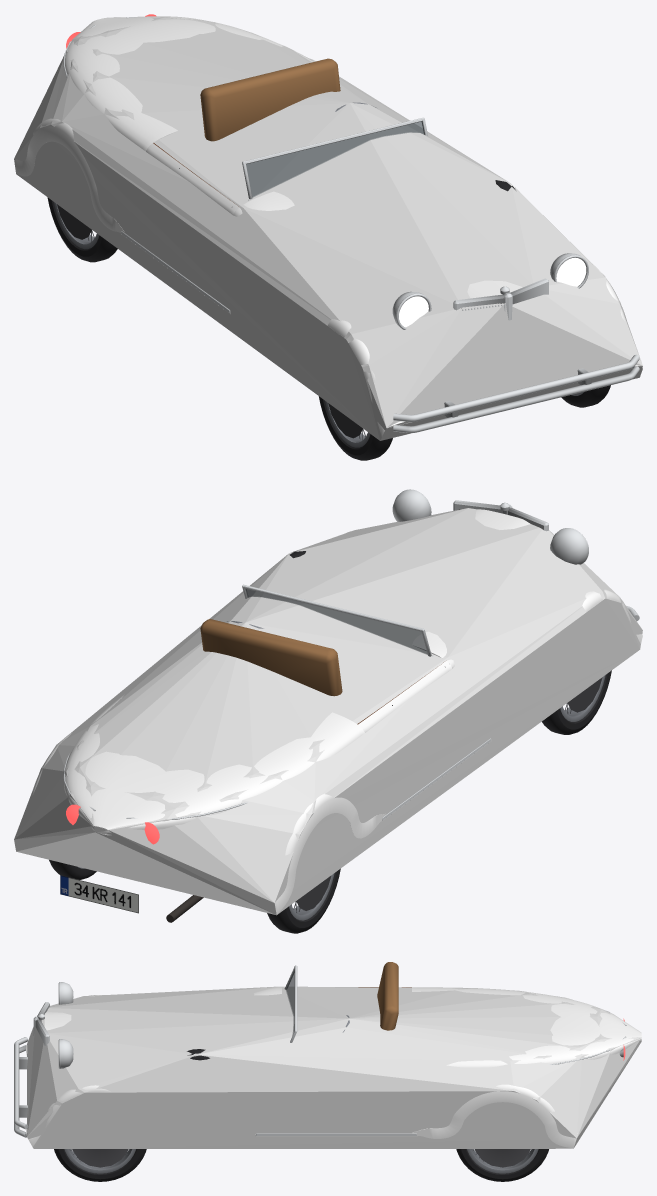
The model's file is bosfor_kartal_lod0.glb.
The picture shows the model from 3 angles, top to bottom: view 1: azimuth 30°, elevation 25°; view 2: azimuth 150°, elevation 25°; view 3: azimuth 270°, elevation 25°; orthographic projection. The views are drawn at different scales.
Visible parts, largest first — view 1: col_body, body, exhaust, interior, glass, wheel_FR, wheel_RR, lights_front; view 2: col_body, body, interior, exhaust, glass, plate_rear, wheel_RR, wheel_FR; view 3: col_body, body, exhaust, wheel_RL, wheel_FL, interior, brake_RL, brake_FL.
Boxes of the visible parts, x1=… form: col_body: x1=14, y1=17, x2=642, y2=440; body: x1=14, y1=16, x2=642, y2=440; exhaust: x1=63, y1=17, x2=639, y2=433; interior: x1=153, y1=58, x2=340, y2=206; glass: x1=246, y1=121, x2=424, y2=197; wheel_FR: x1=318, y1=396, x2=392, y2=460; wheel_RR: x1=47, y1=197, x2=117, y2=262; lights_front: x1=399, y1=257, x2=586, y2=327; col_body: x1=14, y1=508, x2=642, y2=915; body: x1=16, y1=509, x2=642, y2=914; interior: x1=200, y1=619, x2=443, y2=724; exhaust: x1=63, y1=489, x2=639, y2=922; glass: x1=246, y1=589, x2=427, y2=654; plate_rear: x1=60, y1=875, x2=138, y2=913; wheel_RR: x1=267, y1=868, x2=340, y2=933; wheel_FR: x1=542, y1=670, x2=611, y2=734; col_body: x1=27, y1=986, x2=641, y2=1148; body: x1=26, y1=987, x2=641, y2=1148; exhaust: x1=14, y1=965, x2=626, y2=1137; wheel_RL: x1=456, y1=1149, x2=548, y2=1181; wheel_FL: x1=54, y1=1149, x2=146, y2=1181; interior: x1=358, y1=962, x2=411, y2=1030; brake_RL: x1=475, y1=1149, x2=530, y2=1167; brake_FL: x1=72, y1=1149, x2=128, y2=1167.
Bounding box in the file's own units: 1.73 × 1.33 × 4.84.
11 materials, 1 textured.
